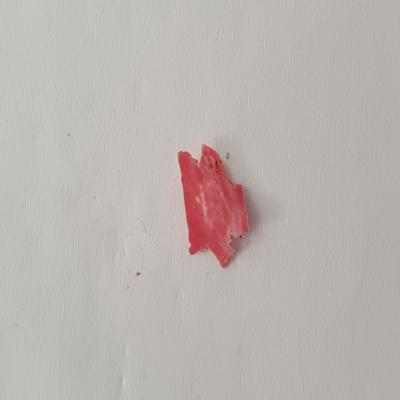plastic: (169, 139, 259, 277)
